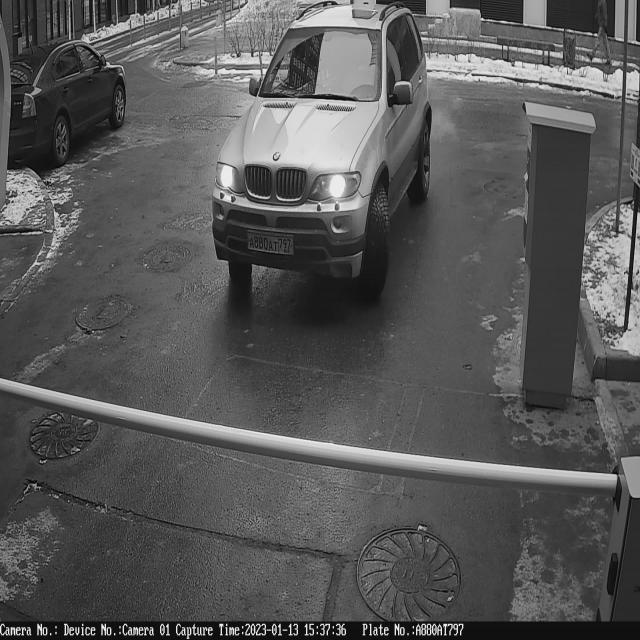car-plate-numbers: (246, 226, 296, 261)
